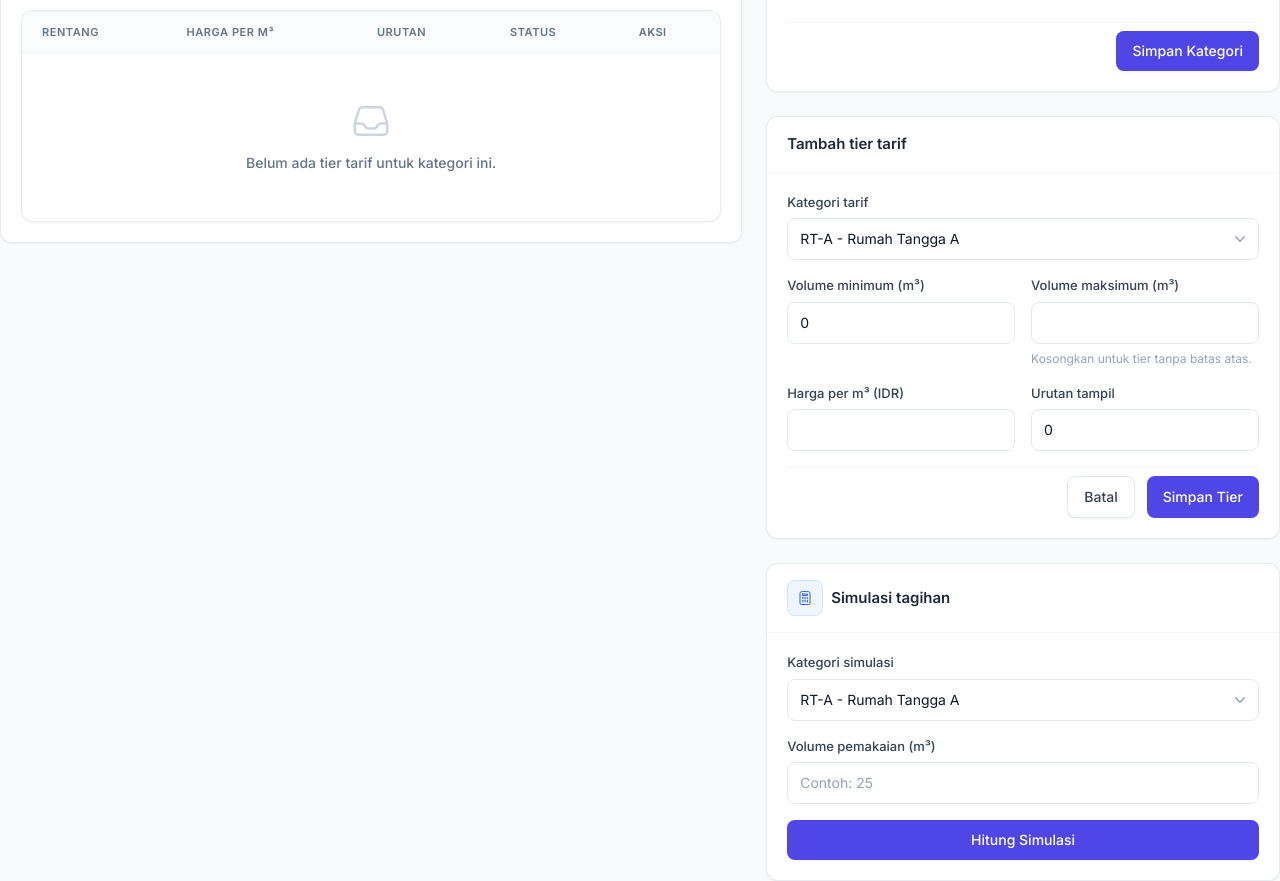
Test: TariffManagement › runs bill simulation for the selected category
The image size is (1280, 881).
(page scrolled)
Type "20" into the number field labelled "Volume pemakaian (m³)" at (1023, 783), box [787, 762, 1259, 804]
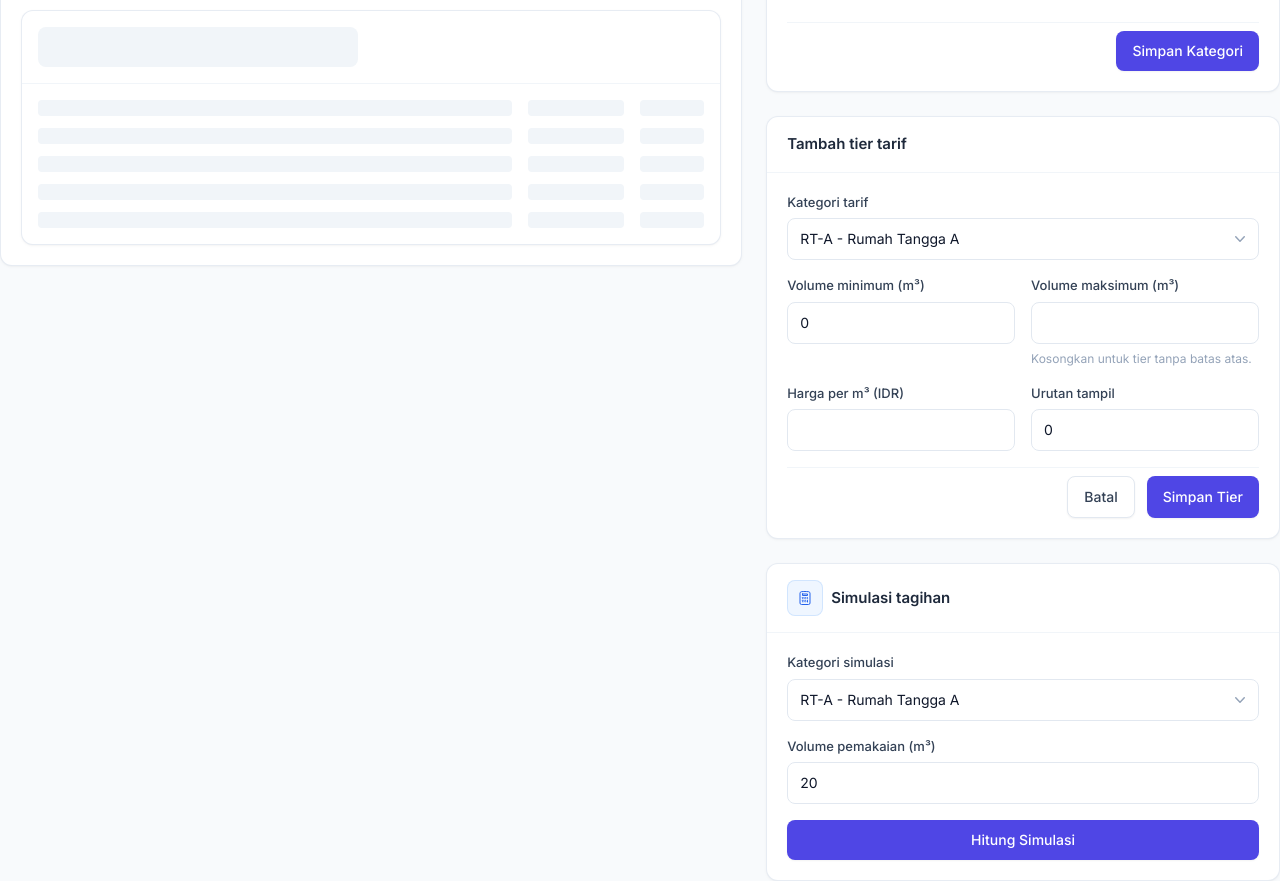
Click the button "Hitung Simulasi" at (1023, 840), box [787, 820, 1259, 860]
(page scrolled)
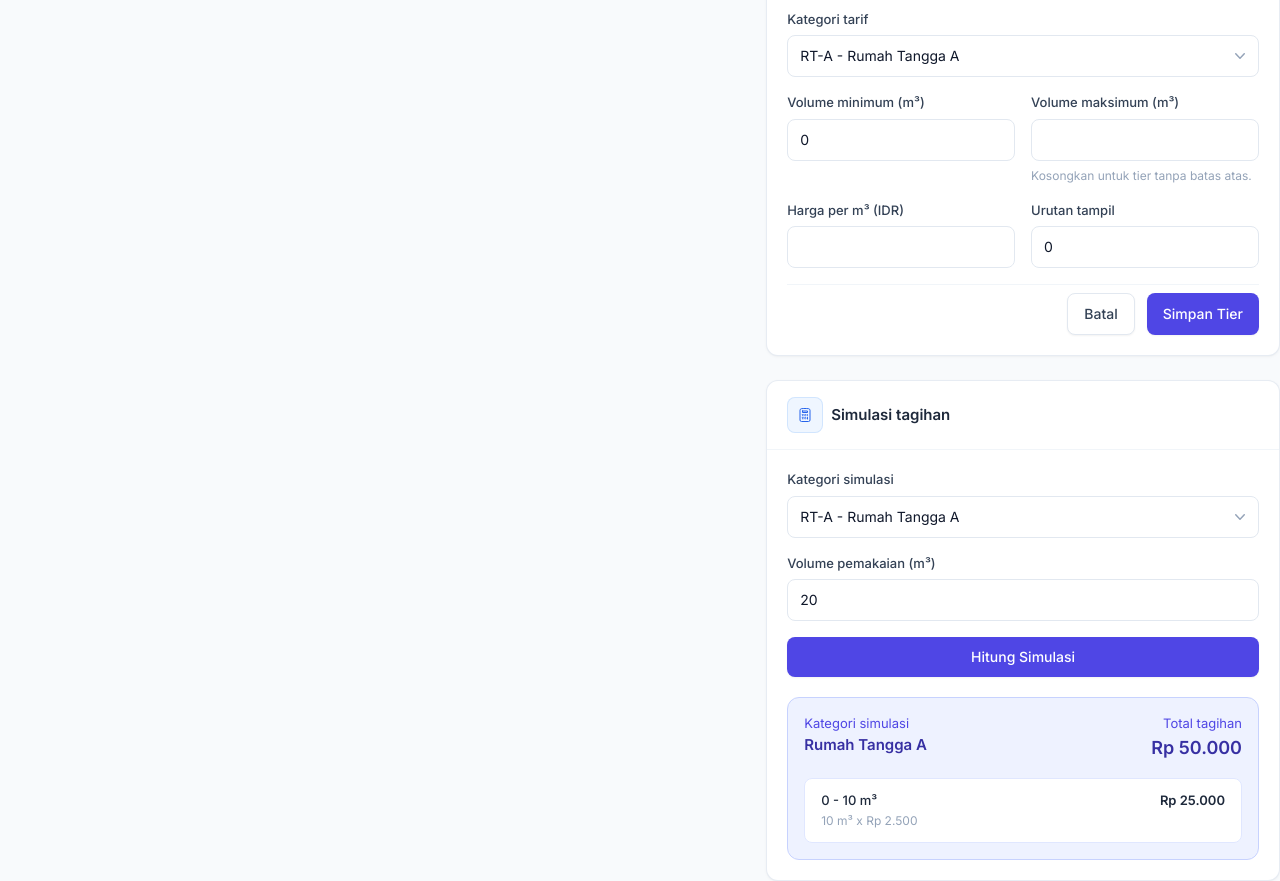
Check: the text "Rp 50.000" is shown, box [1151, 734, 1242, 762]
